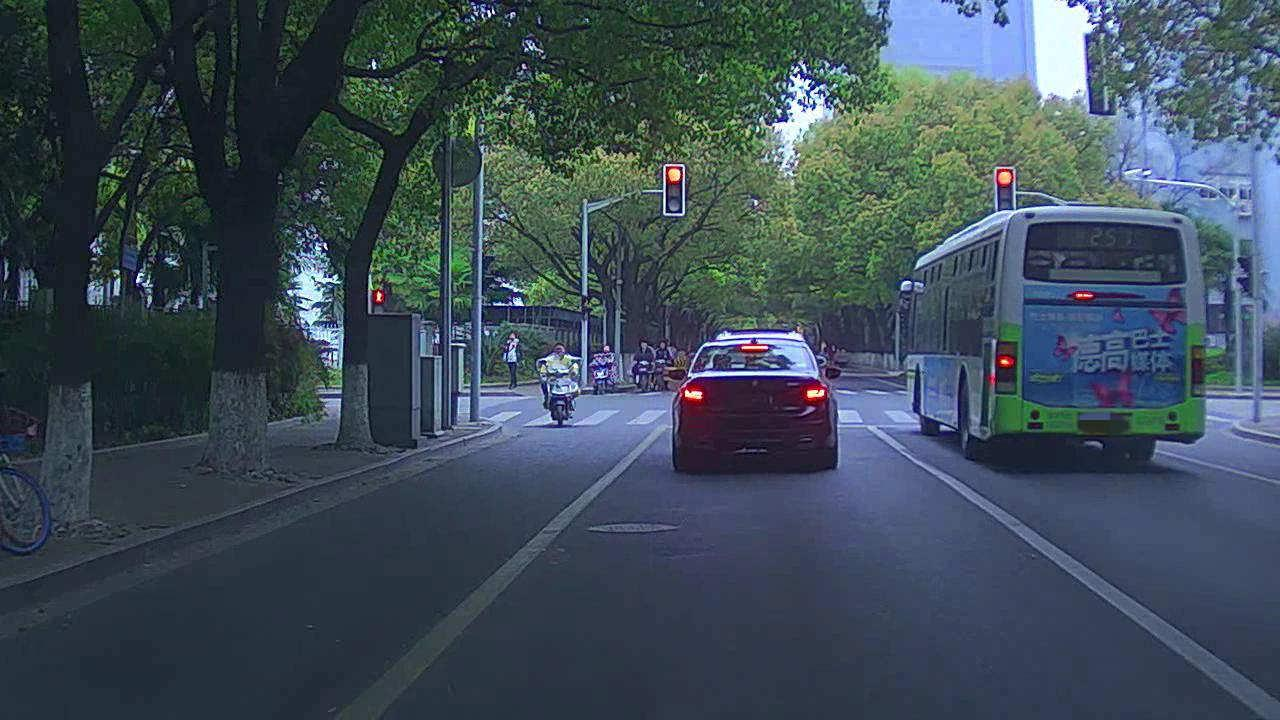traffic_light: (661, 161, 688, 218), (991, 166, 1016, 212)
